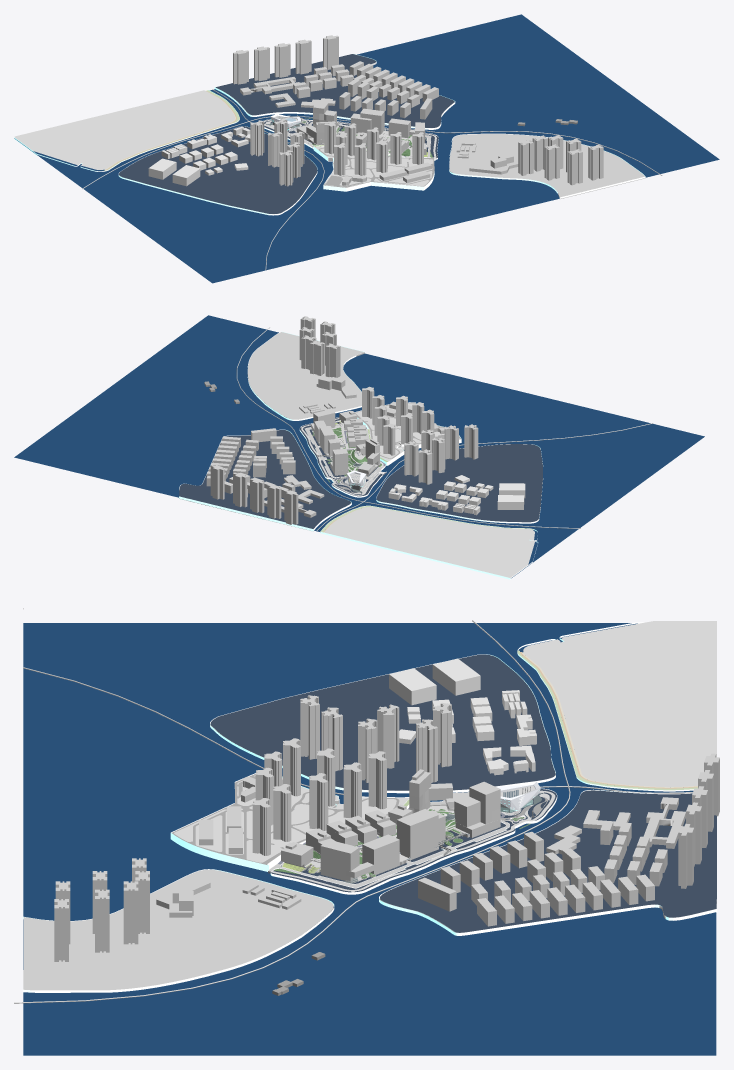
3 renders of one model, top to bottom at view 1: azimuth 30°, elevation 25°; view 2: azimuth 150°, elevation 25°; view 3: azimuth 270°, elevation 25°, orthographic. The views are drawn at different scales.
Visible parts, largest first — view 1: ground, building-outside, reflect-plane-5.001, reflect-plane-3, reflect-plane-4, reflect-plane-1, building-inside, Group9, Group2, road-light, light-border.004, light-border.005 (+2 smaller); view 2: ground, building-outside, reflect-plane-5.001, reflect-plane-3, reflect-plane-4, reflect-plane-1, building-inside, Group9, light-border.001, reflect-plane, Group2, light-border.003 (+1 smaller); view 3: ground, building-outside, reflect-plane-5.001, reflect-plane-4, reflect-plane-3, reflect-plane-1, building-inside, Group9, reflect-plane, Group2, light-border.003, road-light (+6 smaller).
Part boxes in pixels (x1,y1,x2,y2): ground: [14, 14, 719, 283]; building-outside: [148, 35, 603, 186]; reflect-plane-5.001: [14, 90, 234, 169]; reflect-plane-3: [119, 126, 317, 213]; reflect-plane-4: [449, 134, 644, 197]; reflect-plane-1: [216, 54, 454, 127]; building-inside: [296, 101, 426, 154]; Group9: [313, 145, 434, 187]; Group2: [15, 90, 239, 170]; road-light: [82, 115, 662, 189]; light-border.004: [313, 145, 434, 191]; light-border.005: [449, 133, 645, 198]; ground: [14, 315, 704, 578]; building-outside: [206, 316, 525, 524]; reflect-plane-5.001: [325, 507, 534, 577]; reflect-plane-3: [376, 444, 542, 522]; reflect-plane-4: [247, 332, 364, 419]; reflect-plane-1: [179, 430, 351, 528]; building-inside: [311, 409, 380, 476]; Group9: [355, 402, 460, 461]; light-border.001: [320, 505, 538, 579]; reflect-plane: [299, 417, 382, 496]; Group2: [321, 506, 534, 577]; light-border.003: [179, 429, 351, 531]; ground: [23, 623, 716, 1055]; building-outside: [54, 658, 719, 961]; reflect-plane-5.001: [523, 621, 716, 785]; reflect-plane-4: [23, 869, 333, 990]; reflect-plane-3: [210, 654, 555, 790]; reflect-plane-1: [380, 790, 716, 932]; building-inside: [281, 769, 500, 881]; Group9: [172, 774, 409, 864]; reflect-plane: [271, 789, 556, 892]; Group2: [517, 639, 697, 790]; light-border.003: [379, 789, 717, 935]; road-light: [14, 620, 570, 1003].
Size of the model in its own units: 15.76 by 0.9967 by 10.56.
